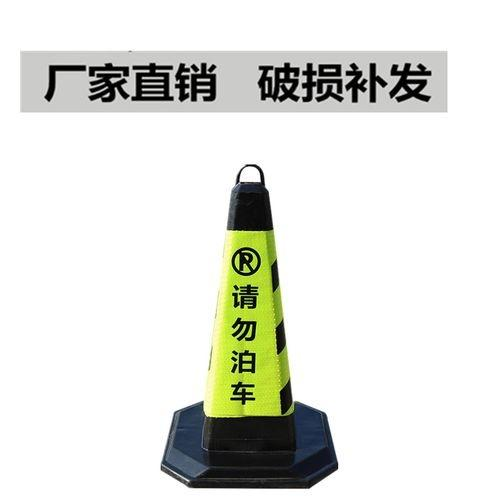cone_barrel: (174, 169, 324, 480)
